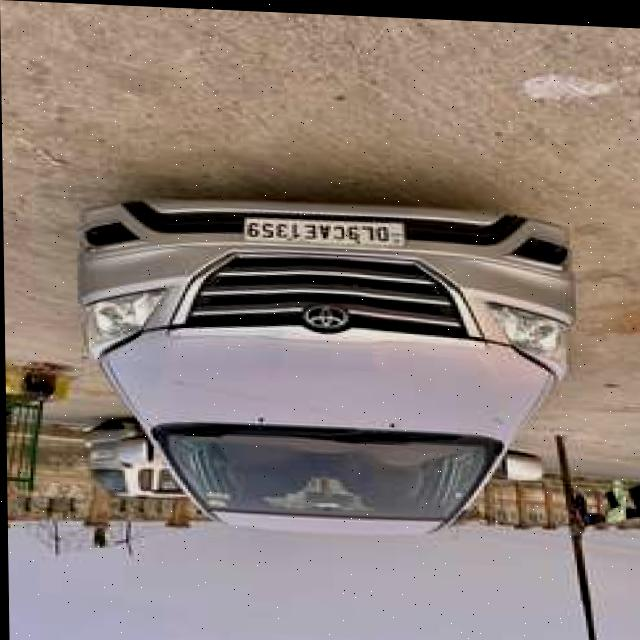plate: (244, 215, 409, 248)
